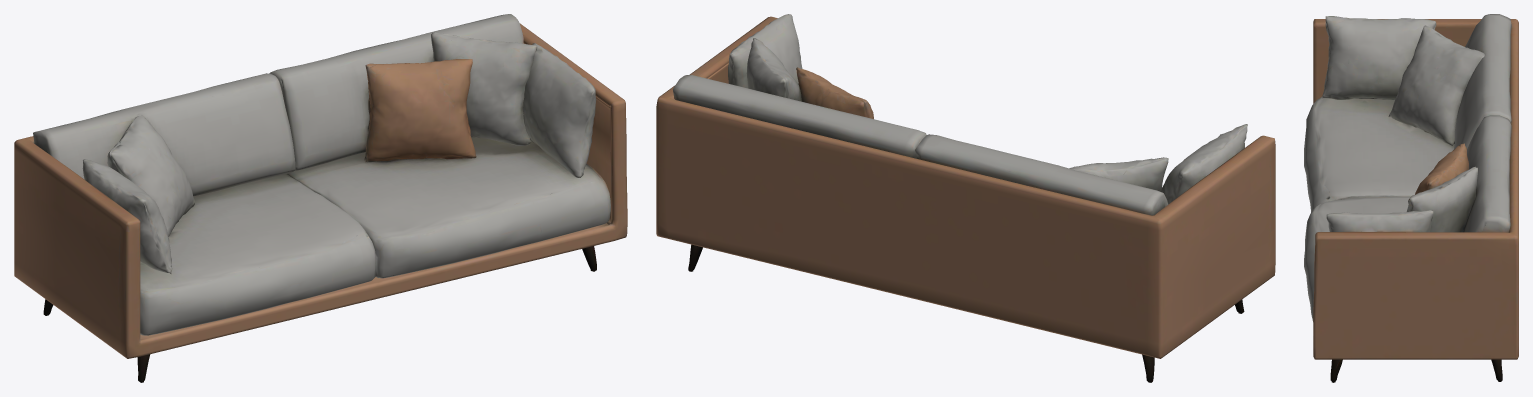
The picture shows the model from 3 angles, left to right: view 1: azimuth 30°, elevation 25°; view 2: azimuth 150°, elevation 25°; view 3: azimuth 270°, elevation 25°; orthographic projection. The views are drawn at different scales.
Visible parts, largest first — view 1: tripo_node_2762a62e-859a-4e7e-8d20-6d95f9a18033; view 2: tripo_node_2762a62e-859a-4e7e-8d20-6d95f9a18033; view 3: tripo_node_2762a62e-859a-4e7e-8d20-6d95f9a18033.
Boxes of the visible parts, <box> form: tripo_node_2762a62e-859a-4e7e-8d20-6d95f9a18033: <box>14,14,627,382</box>; tripo_node_2762a62e-859a-4e7e-8d20-6d95f9a18033: <box>656,14,1275,382</box>; tripo_node_2762a62e-859a-4e7e-8d20-6d95f9a18033: <box>1304,14,1518,382</box>.
Bounding box in the file's own units: 2.1 × 0.8014 × 0.8671.
Materials: 1 (1 with a texture image).
